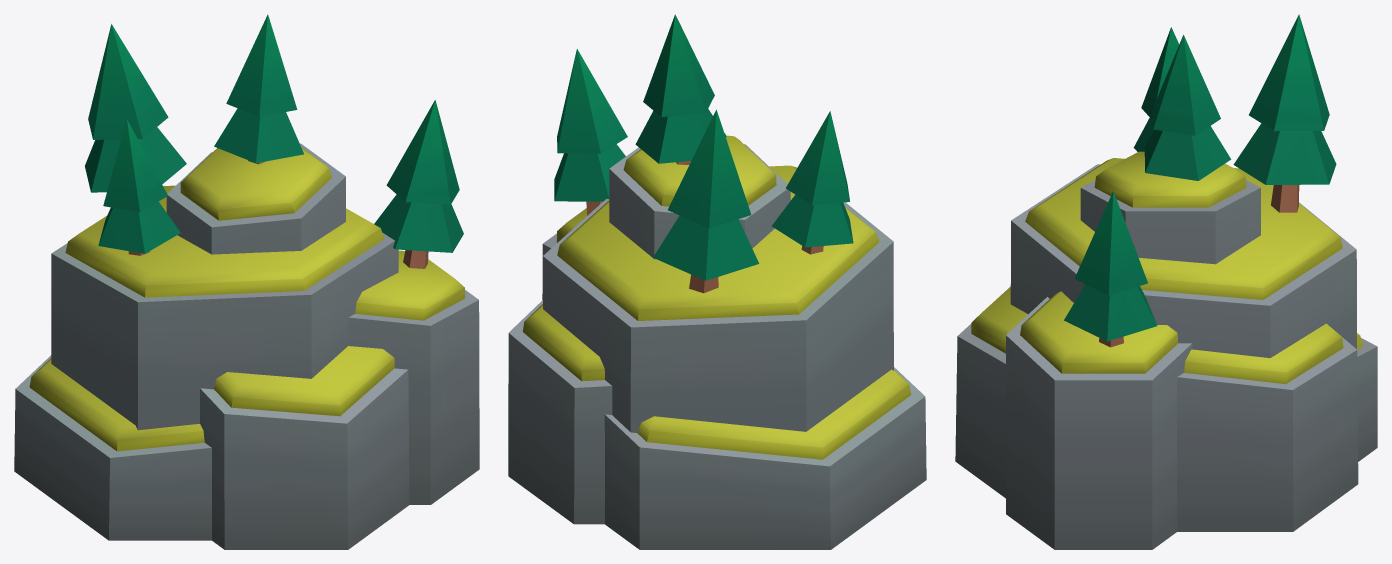
File: mountain_A_grass_trees.glb
The picture shows the model from 3 angles, left to right: view 1: azimuth 30°, elevation 25°; view 2: azimuth 150°, elevation 25°; view 3: azimuth 270°, elevation 25°; orthographic projection.
Parts seen in each view (by area): view 1: mountain_A_grass_trees; view 2: mountain_A_grass_trees; view 3: mountain_A_grass_trees.
Part boxes in pixels (left/top/right/bottom): mountain_A_grass_trees: left=14, top=14, right=479, bottom=549; mountain_A_grass_trees: left=508, top=14, right=926, bottom=549; mountain_A_grass_trees: left=955, top=14, right=1377, bottom=549.
Size of the model in its own units: 1.86 by 2.18 by 1.88.
1 material, 1 textured.
